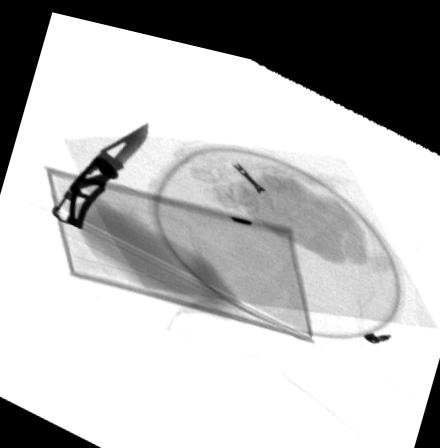Knife: (50, 113, 150, 227)
